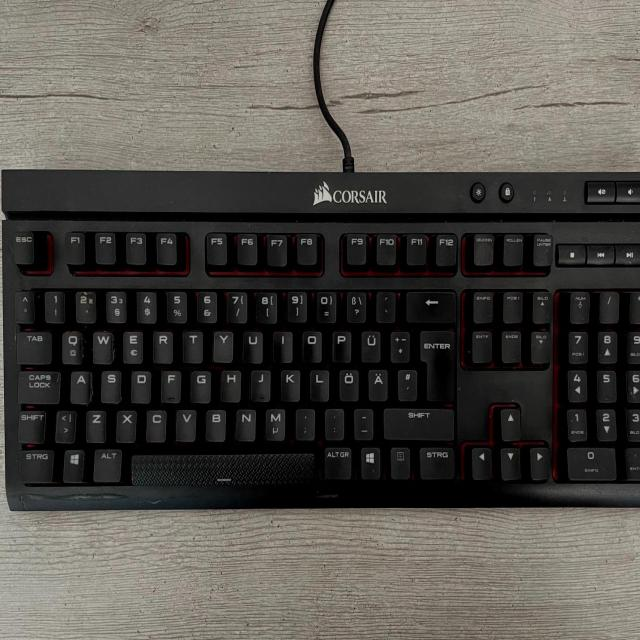0: (314, 288, 338, 323)
1: (43, 287, 65, 322)
2: (74, 288, 96, 322)
3: (104, 288, 127, 323)
4: (135, 288, 157, 323)
5: (165, 288, 188, 323)
6: (195, 287, 218, 323)
7: (225, 288, 248, 322)
8: (254, 289, 277, 324)
9: (284, 288, 307, 322)
a: (68, 367, 91, 403)
accent: (374, 288, 395, 322)
ae: (366, 365, 388, 400)
alt-left: (91, 445, 122, 481)
altgr-right: (321, 443, 352, 478)
b: (204, 406, 226, 440)
c: (145, 406, 166, 440)
caret: (13, 288, 34, 321)
comma: (294, 405, 315, 439)
d: (130, 367, 151, 402)
del: (404, 288, 455, 322)
e: (122, 327, 144, 362)
enter: (417, 326, 455, 401)
f: (160, 366, 181, 402)
g: (189, 367, 211, 401)
h: (219, 367, 241, 401)
hash: (396, 366, 416, 399)
i: (271, 328, 293, 361)
j: (250, 366, 271, 400)
k: (279, 366, 301, 401)
keyboard: (0, 213, 640, 510)
l: (308, 366, 329, 400)
less: (54, 406, 76, 441)
m: (263, 405, 286, 439)
minus: (351, 406, 373, 439)
n: (234, 405, 256, 440)
o: (300, 328, 323, 362)
oe: (337, 366, 358, 401)
p: (329, 328, 351, 362)
plus: (388, 327, 410, 362)
point: (323, 405, 344, 438)
q: (60, 328, 83, 362)
r: (151, 328, 173, 363)
s: (99, 367, 121, 402)
shift-left: (16, 408, 45, 442)
shift-lock: (16, 368, 61, 403)
shift-right: (382, 405, 454, 438)
space: (128, 450, 316, 485)
ss: (344, 289, 367, 323)
strg-left: (16, 447, 54, 482)
strg-right: (418, 444, 456, 479)
t: (181, 327, 203, 362)
tab: (15, 328, 51, 363)
u: (241, 328, 263, 362)
ue: (359, 328, 380, 363)
v: (175, 406, 196, 440)
w: (91, 328, 114, 363)
x: (115, 406, 137, 441)
y: (211, 327, 233, 362)
z: (84, 407, 106, 441)
